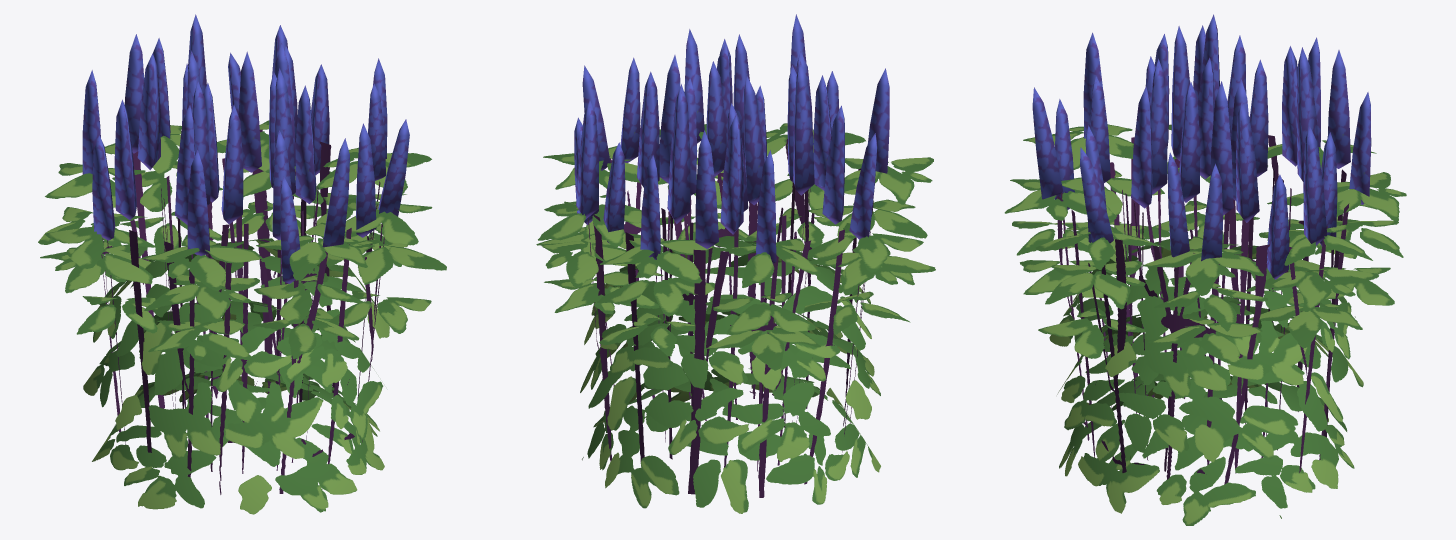
Rendered from Salvia.fbx.
3 views of the same model, side by side, from view 1: azimuth 30°, elevation 25°; view 2: azimuth 150°, elevation 25°; view 3: azimuth 270°, elevation 25° (orthographic).
Parts seen in each view (by area): view 1: Salvia; view 2: Salvia; view 3: Salvia.
Part boxes in pixels (left/top/right/bottom): Salvia: left=38, top=14, right=446, bottom=514; Salvia: left=536, top=14, right=935, bottom=513; Salvia: left=1004, top=14, right=1406, bottom=525.
Bounding box in the file's own units: 108 × 103 × 103.
